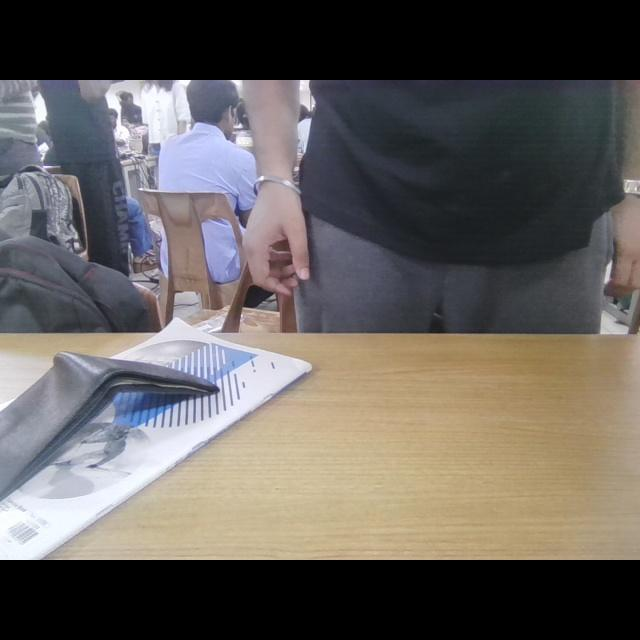wallet: (0, 345, 226, 421)
